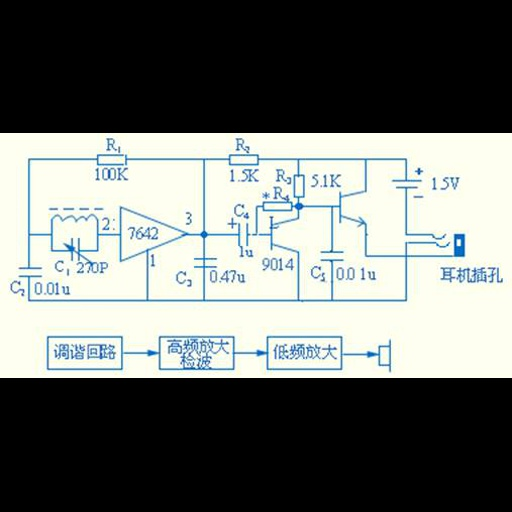amplifier: (118, 204, 188, 263)
capacitor: (191, 254, 220, 270), (15, 264, 43, 279), (319, 248, 345, 264)
firstpolarcapacitor: (221, 219, 252, 247)
firstresistance: (93, 151, 131, 167), (226, 153, 262, 167), (258, 200, 294, 213), (293, 171, 308, 199)
inductor: (49, 214, 99, 226)
npn: (333, 189, 374, 228)
pnp: (264, 212, 304, 254)
